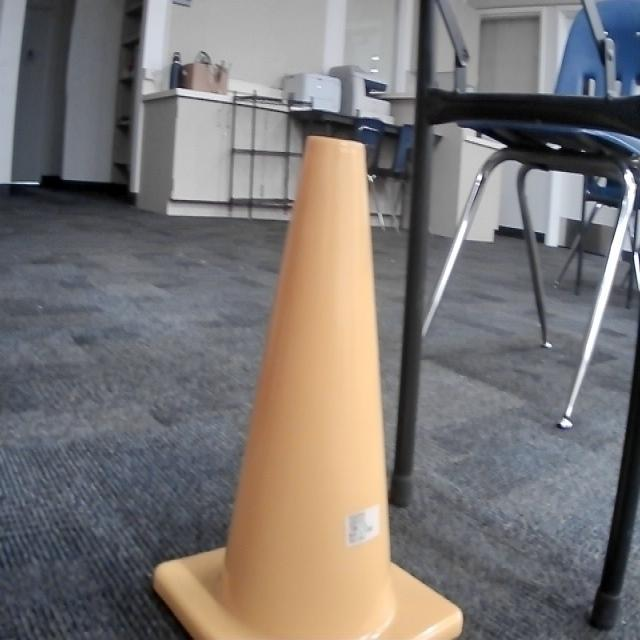cone: (148, 126, 465, 640)
